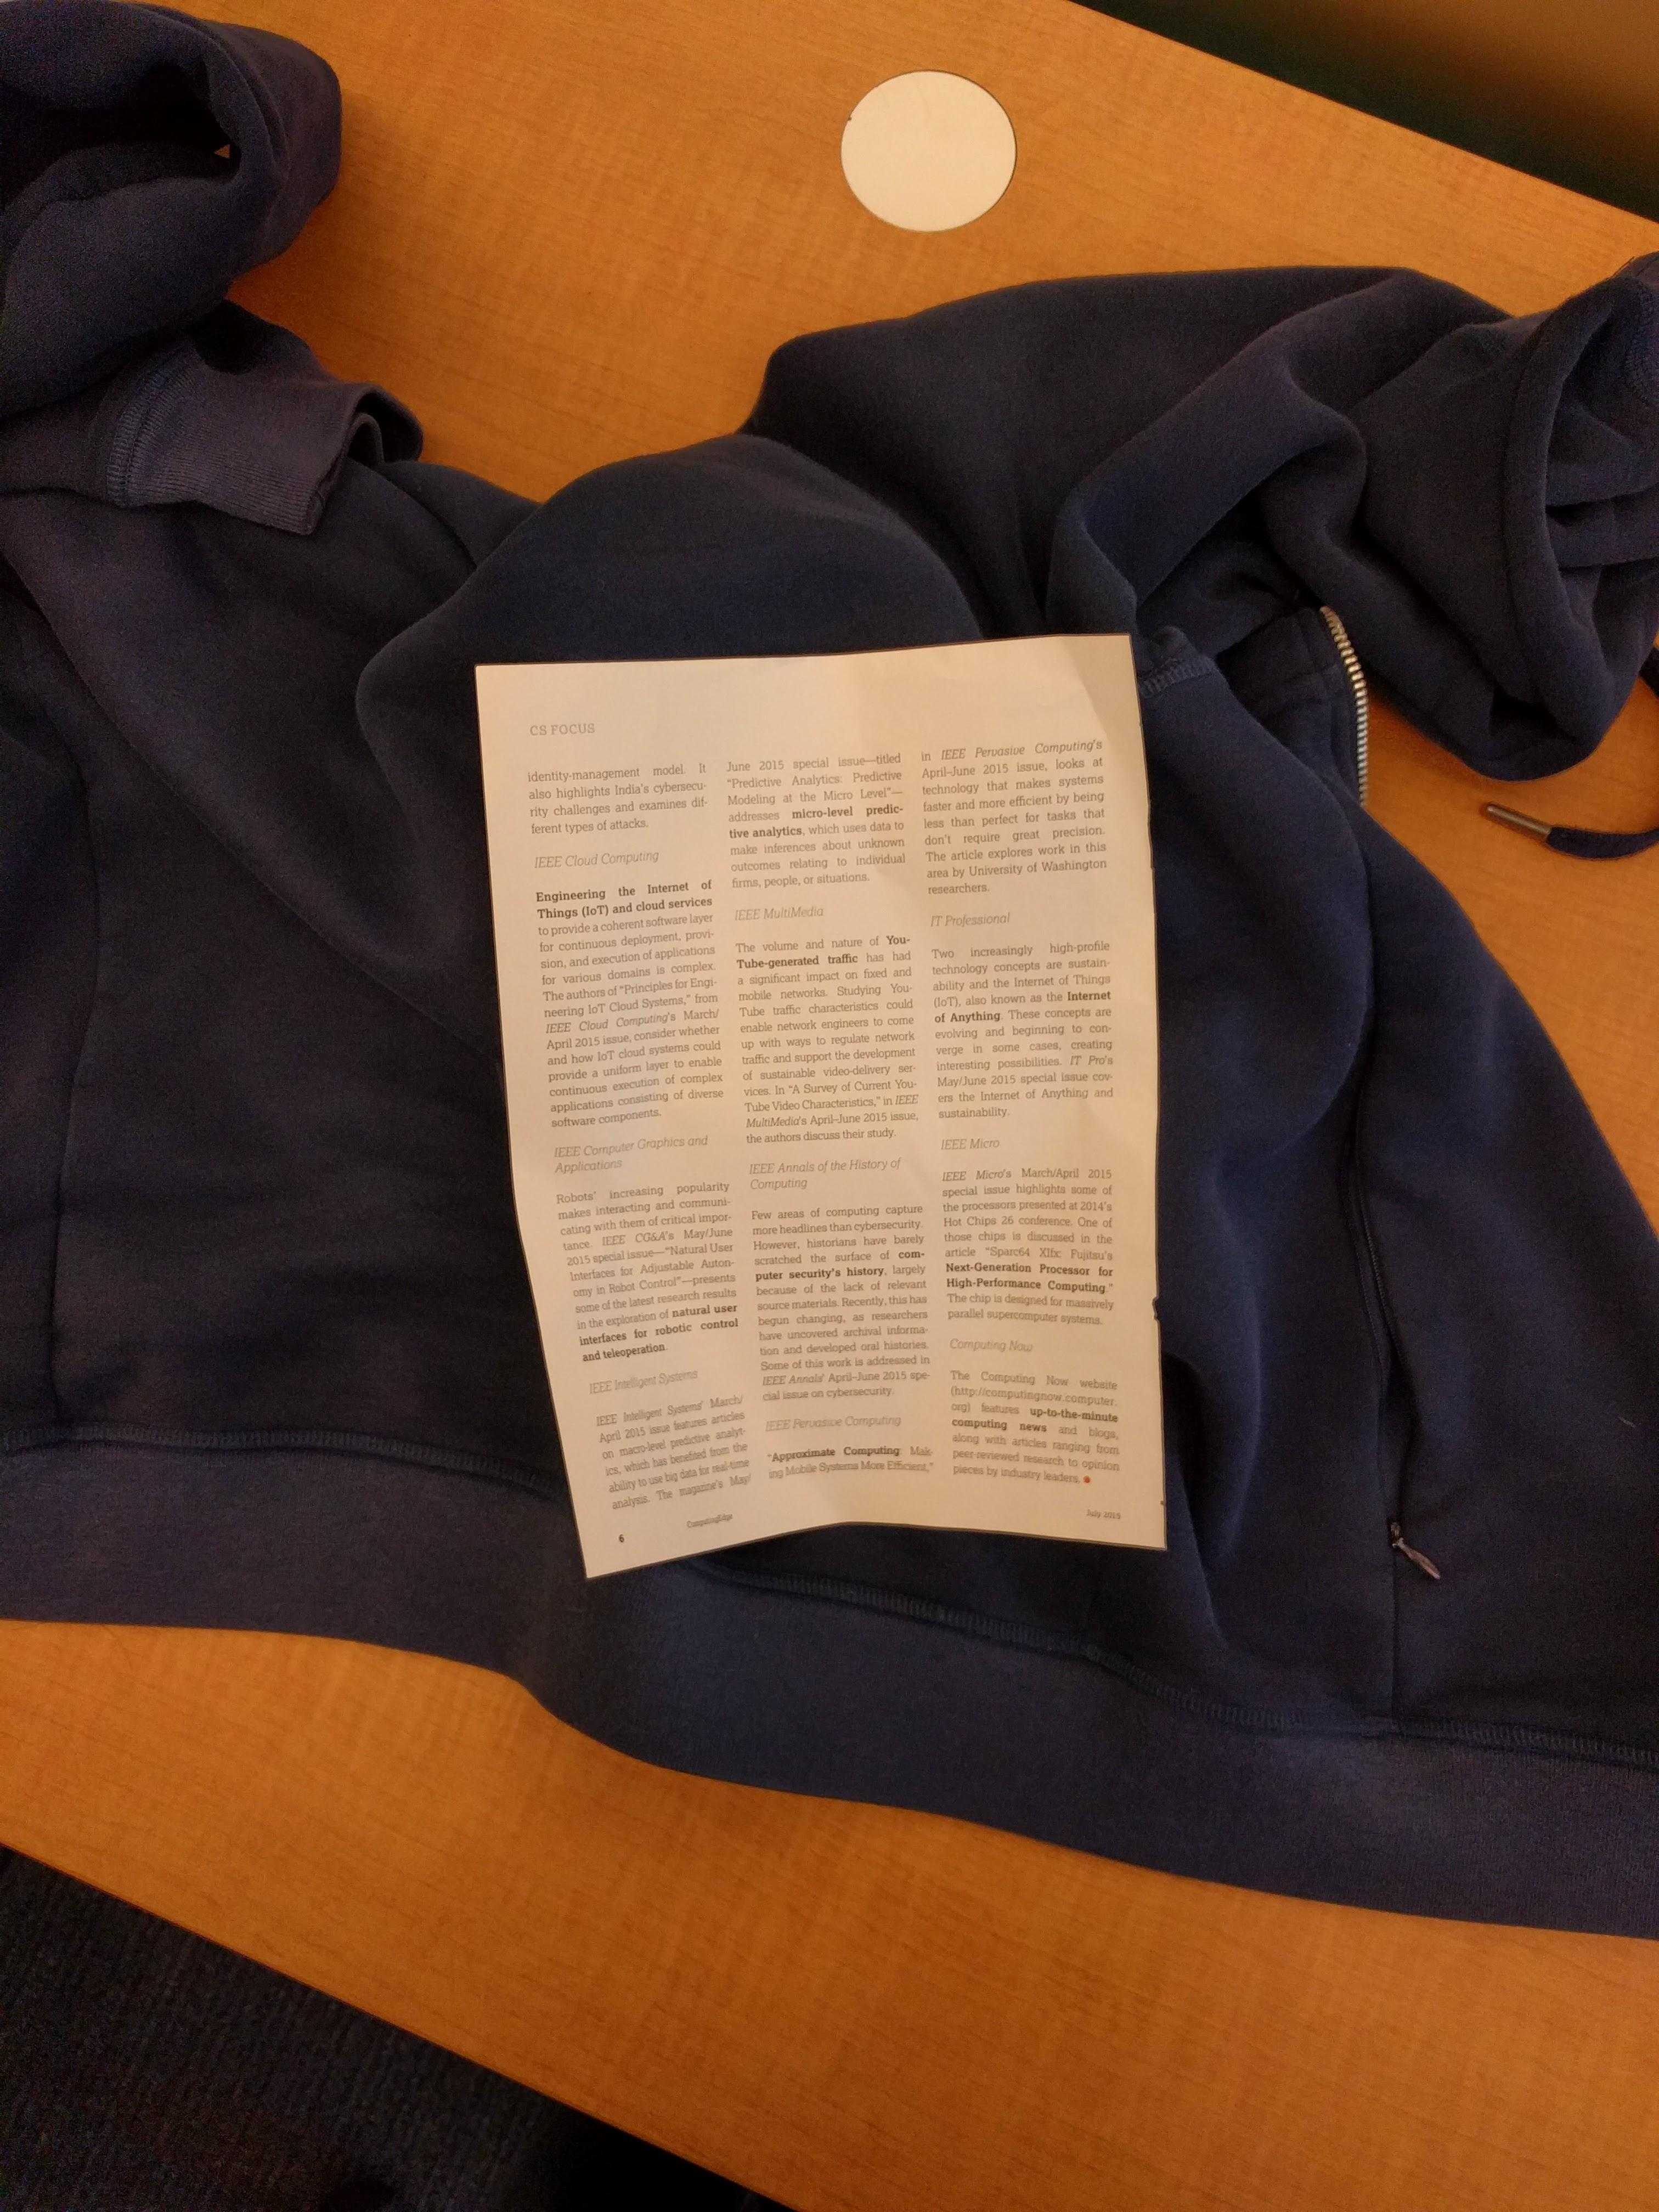paper: (326, 448, 1495, 1871)
